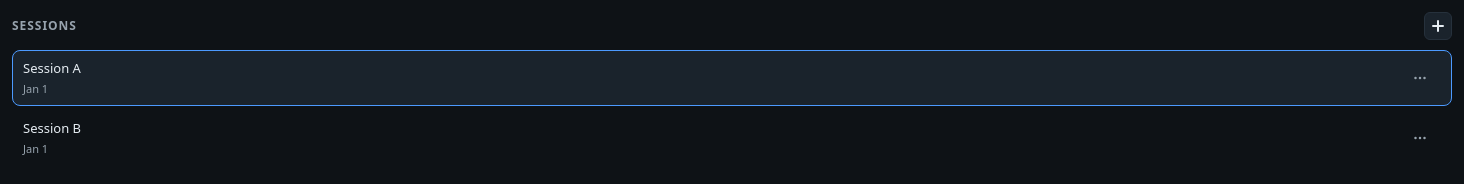
session delete confirmation › asks for confirmation, focuses Cancel, and leaves the data untouched
Click the 1st button with class "session-actions-trigger" at x=1420, y=78, box [1394,64,1446,92]
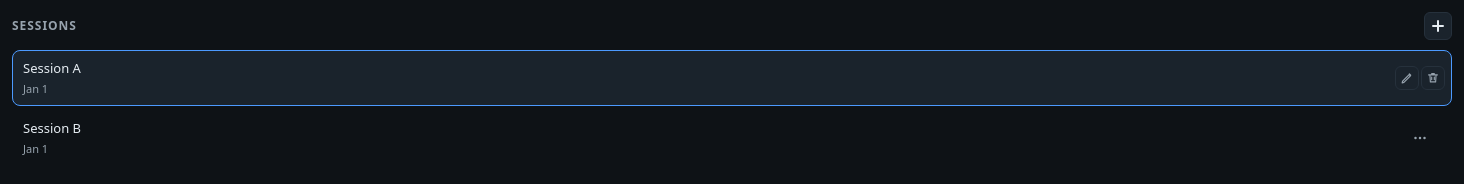
Click the button named "Delete session" at x=1433, y=78, box [1421,66,1445,90]
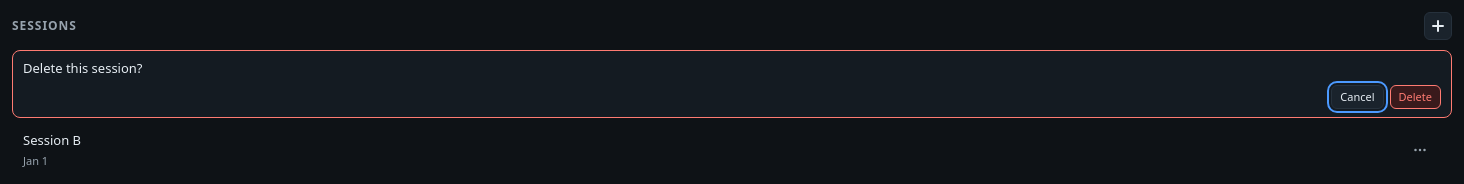
Expected: the text with class "session-delete-question" reads "Delete this session?", [23,59,142,77]
